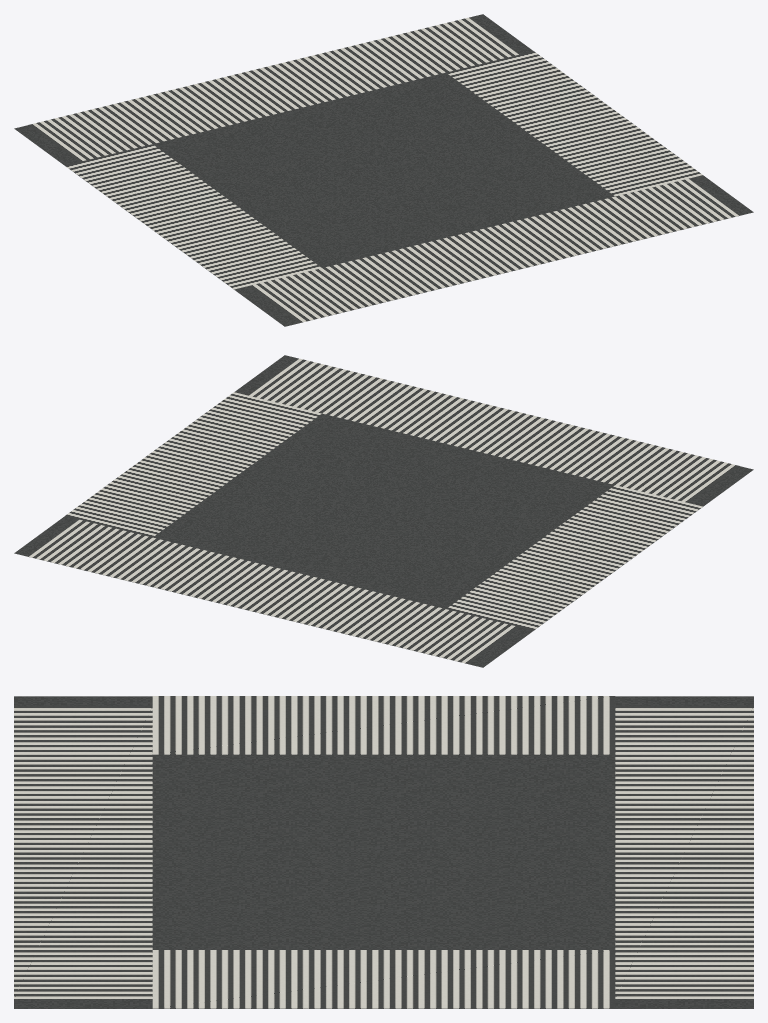
Rendered from intersection_16.glb.
The picture shows the model from 3 angles, top to bottom: view 1: azimuth 30°, elevation 25°; view 2: azimuth 150°, elevation 25°; view 3: azimuth 270°, elevation 25°; orthographic projection. The views are drawn at different scales.
Visible parts, largest first — view 1: intersection_16; view 2: intersection_16; view 3: intersection_16.
Part boxes in pixels (box(x1,y1,x2,y2)): intersection_16: box(14, 14, 753, 326); intersection_16: box(14, 355, 753, 667); intersection_16: box(14, 696, 753, 1008).
Bounding box in the file's own units: 16 × 0.005 × 16.
Materials: 3 (3 with a texture image).
